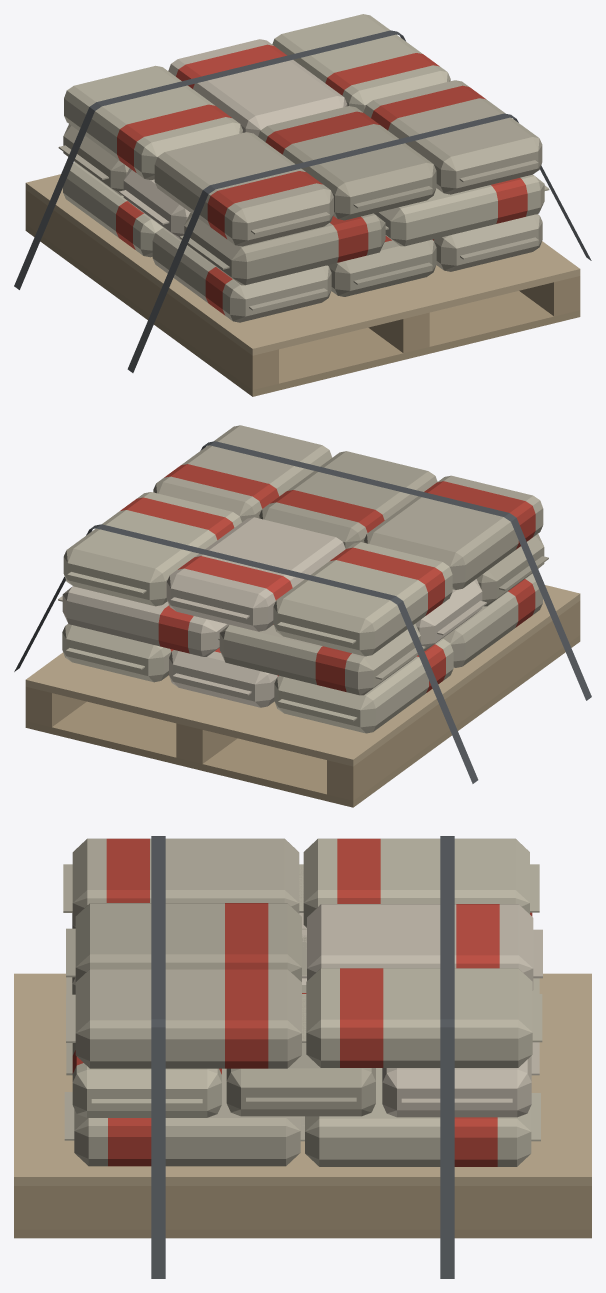
File: concrete-pallet.glb
The picture shows the model from 3 angles, top to bottom: view 1: azimuth 30°, elevation 25°; view 2: azimuth 150°, elevation 25°; view 3: azimuth 270°, elevation 25°; orthographic projection. The views are drawn at different scales.
Visible parts, largest first — view 1: ConcretePallet_ConcreteBag, ConcretePallet_PalletWood, ConcretePallet_ConcretePrint, ConcretePallet_Strap; view 2: ConcretePallet_ConcreteBag, ConcretePallet_PalletWood, ConcretePallet_ConcretePrint, ConcretePallet_Strap; view 3: ConcretePallet_ConcreteBag, ConcretePallet_PalletWood, ConcretePallet_ConcretePrint, ConcretePallet_Strap.
Boxes of the visible parts, left/top/right/bottom form: ConcretePallet_ConcreteBag: left=58, top=14, right=549, bottom=322; ConcretePallet_PalletWood: left=25, top=174, right=580, bottom=396; ConcretePallet_ConcretePrint: left=116, top=44, right=527, bottom=315; ConcretePallet_Strap: left=14, top=30, right=591, bottom=372; ConcretePallet_ConcreteBag: left=58, top=425, right=548, bottom=733; ConcretePallet_PalletWood: left=25, top=585, right=580, bottom=807; ConcretePallet_ConcretePrint: left=120, top=464, right=535, bottom=692; ConcretePallet_Strap: left=14, top=441, right=591, bottom=783; ConcretePallet_ConcreteBag: left=63, top=838, right=542, bottom=1166; ConcretePallet_PalletWood: left=14, top=973, right=591, bottom=1238; ConcretePallet_ConcretePrint: left=72, top=838, right=532, bottom=1166; ConcretePallet_Strap: left=151, top=836, right=454, bottom=1278.
Size of the model in its own units: 1.4 by 0.478 by 1.2.
